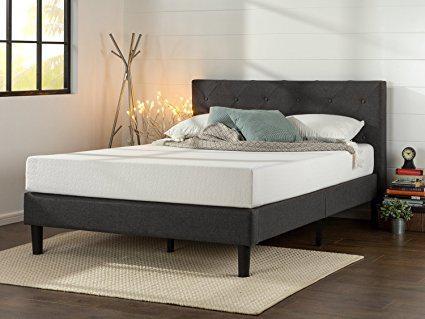bed: (15, 72, 409, 285)
